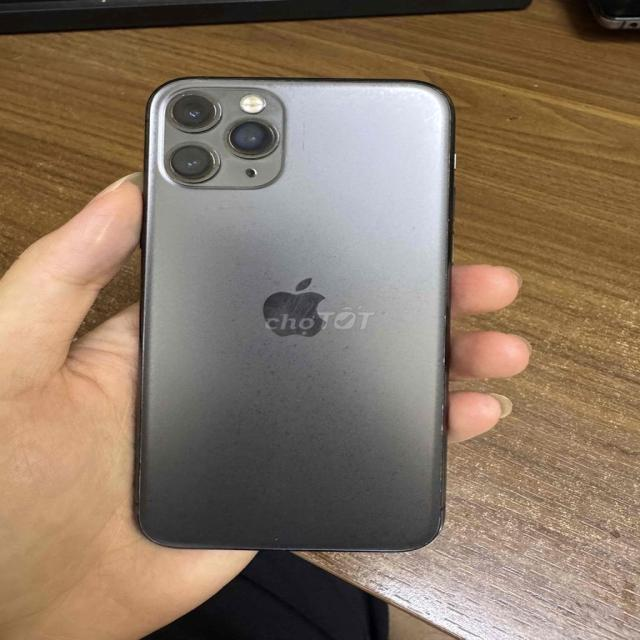gen_11: (125, 65, 452, 567)
